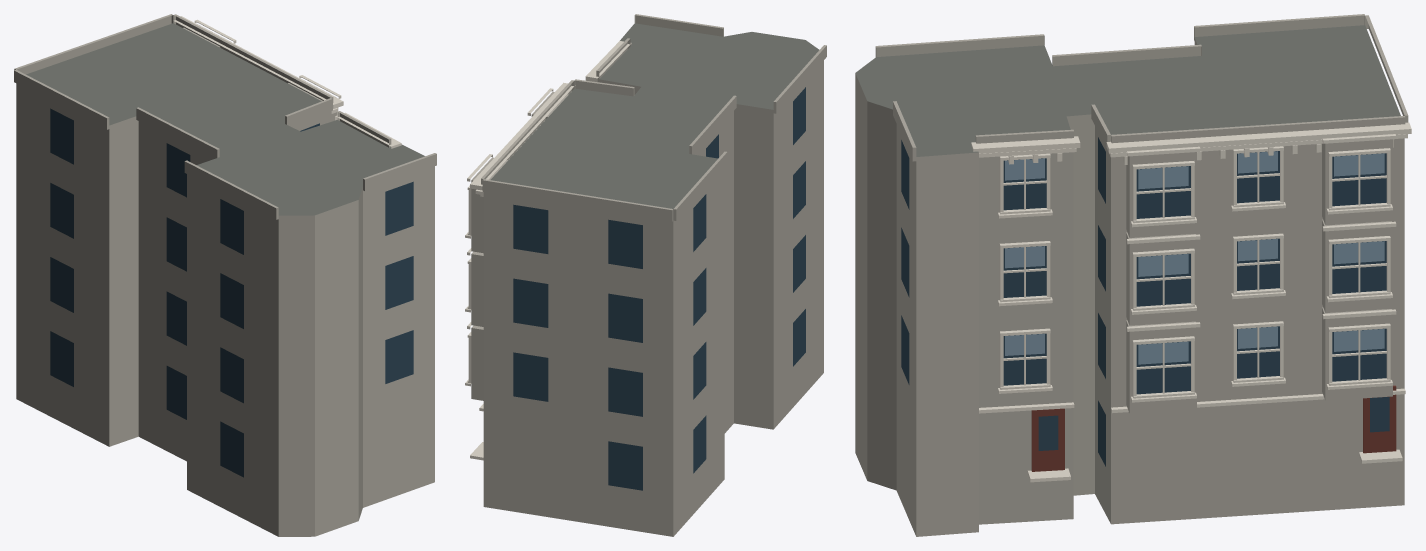
The picture shows the model from 3 angles, left to right: view 1: azimuth 30°, elevation 25°; view 2: azimuth 150°, elevation 25°; view 3: azimuth 270°, elevation 25°; orthographic projection. The views are drawn at different scales.
Visible parts, largest first — view 1: Footprint 0 / surface 2, Footprint 0 / surface 1, Inset glazing, Facade bay volumes, Cornices and window frames; view 2: Footprint 0 / surface 2, Footprint 0 / surface 1, Inset glazing, Facade bay volumes, Cornices and window frames; view 3: Footprint 0 / surface 2, Footprint 0 / surface 1, Cornices and window frames, Facade bay volumes, Inset glazing, Sky reflection panels, Storefronts and doors.
Part boxes in pixels (left/top/right/bottom): Footprint 0 / surface 2: left=16, top=83, right=434, bottom=536; Footprint 0 / surface 1: left=26, top=23, right=424, bottom=215; Inset glazing: left=50, top=108, right=413, bottom=477; Facade bay volumes: left=14, top=14, right=436, bottom=219; Cornices and window frames: left=173, top=16, right=401, bottom=148; Footprint 0 / surface 2: left=483, top=46, right=823, bottom=536; Footprint 0 / surface 1: left=490, top=23, right=819, bottom=208; Inset glazing: left=513, top=87, right=805, bottom=490; Facade bay volumes: left=471, top=14, right=826, bottom=400; Cornices and window frames: left=465, top=41, right=631, bottom=460; Footprint 0 / surface 2: left=855, top=38, right=1404, bottom=536; Footprint 0 / surface 1: left=855, top=25, right=1400, bottom=156; Cornices and window frames: left=971, top=122, right=1411, bottom=482; Facade bay volumes: left=875, top=14, right=1408, bottom=413; Inset glazing: left=901, top=137, right=1389, bottom=466; Sky reflection panels: left=1005, top=151, right=1384, bottom=364; Storefronts and doors: left=1031, top=385, right=1396, bottom=471.
Bounding box in the file's own units: 10.43 × 14.16 × 18.33.
